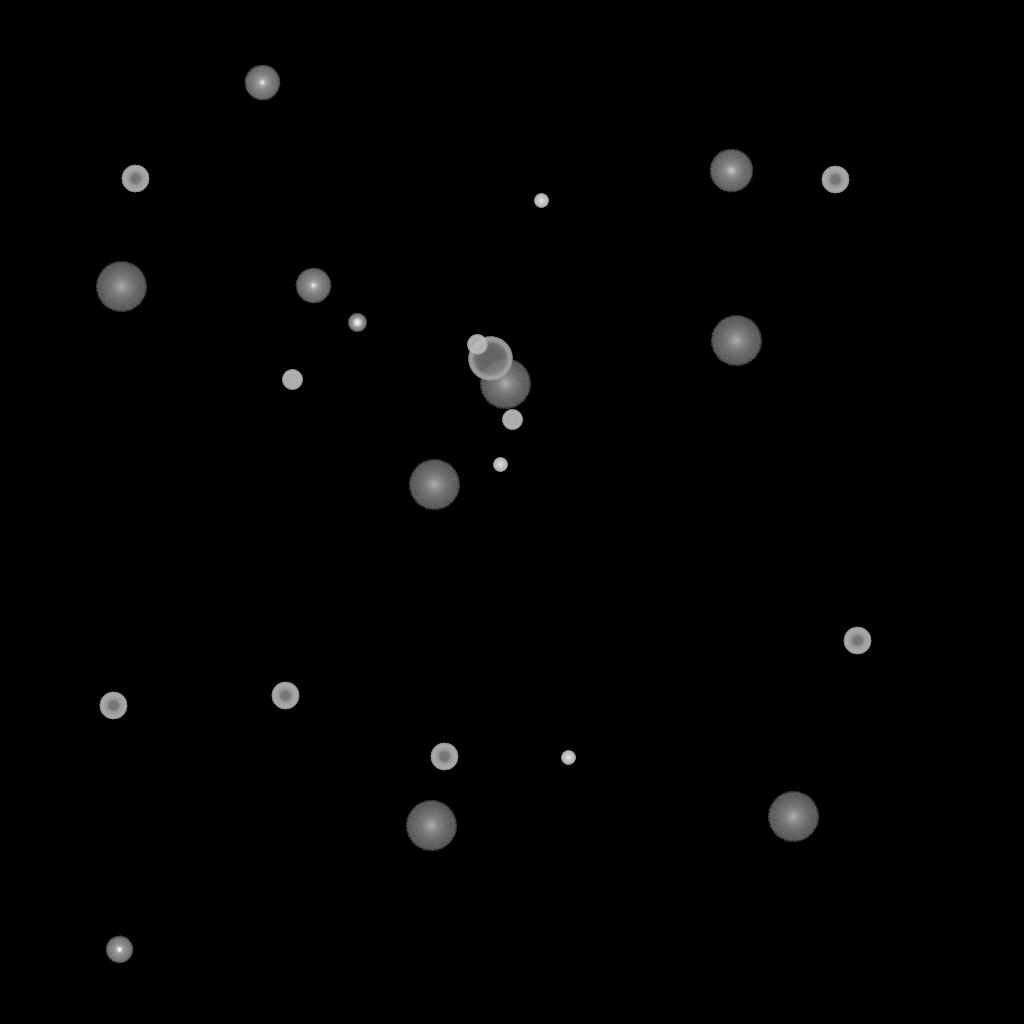depth:-10: (105, 936, 133, 964)
depth:-20: (348, 314, 366, 332)
depth:-30: (493, 458, 507, 472), (534, 194, 548, 208), (561, 751, 575, 765)
depth:-40: (282, 370, 302, 390), (502, 410, 522, 430), (467, 335, 487, 355)
depth:-50: (430, 743, 458, 771), (271, 682, 299, 710), (821, 166, 849, 194), (99, 692, 127, 720), (843, 627, 871, 655), (121, 165, 149, 193)
depth:-70: (468, 337, 512, 381)
depth:0: (244, 65, 280, 101), (295, 268, 331, 304)
depth:10: (709, 149, 753, 193)
depth:20: (767, 792, 819, 842), (95, 262, 147, 312), (405, 801, 457, 851), (408, 460, 460, 510), (479, 359, 531, 409), (710, 316, 762, 366)
